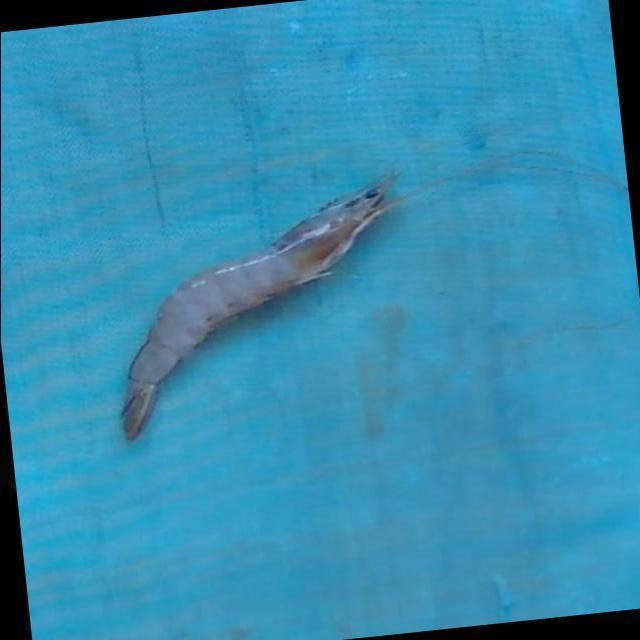shrimp: (121, 176, 391, 439)
